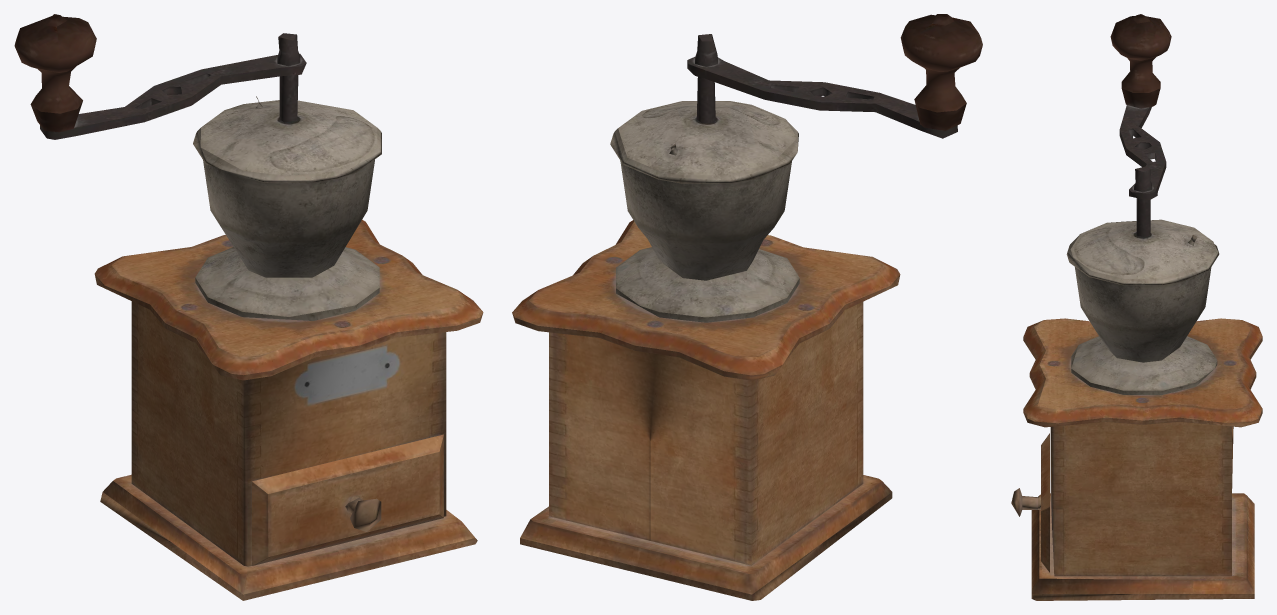
Rendered from antique_coffee_mill.lod2.glb.
3 views of the same model, side by side, from view 1: azimuth 30°, elevation 25°; view 2: azimuth 150°, elevation 25°; view 3: azimuth 270°, elevation 25° (orthographic). The views are drawn at different scales.
Visible parts, largest first — view 1: Coffee_Mill_LOD0, Handle_LOD0; view 2: Coffee_Mill_LOD0, Handle_LOD0; view 3: Coffee_Mill_LOD0, Handle_LOD0.
Boxes of the visible parts, x1=… form: Coffee_Mill_LOD0: x1=94, y1=96, x2=483, y2=600; Handle_LOD0: x1=14, y1=14, x2=306, y2=139; Coffee_Mill_LOD0: x1=512, y1=101, x2=900, y2=600; Handle_LOD0: x1=687, y1=14, x2=982, y2=138; Coffee_Mill_LOD0: x1=1011, y1=219, x2=1262, y2=600; Handle_LOD0: x1=1110, y1=14, x2=1171, y2=237.
Size of the model in its own units: 19.81 by 26.52 by 13.53.
Materials: 1 (1 with a texture image).
